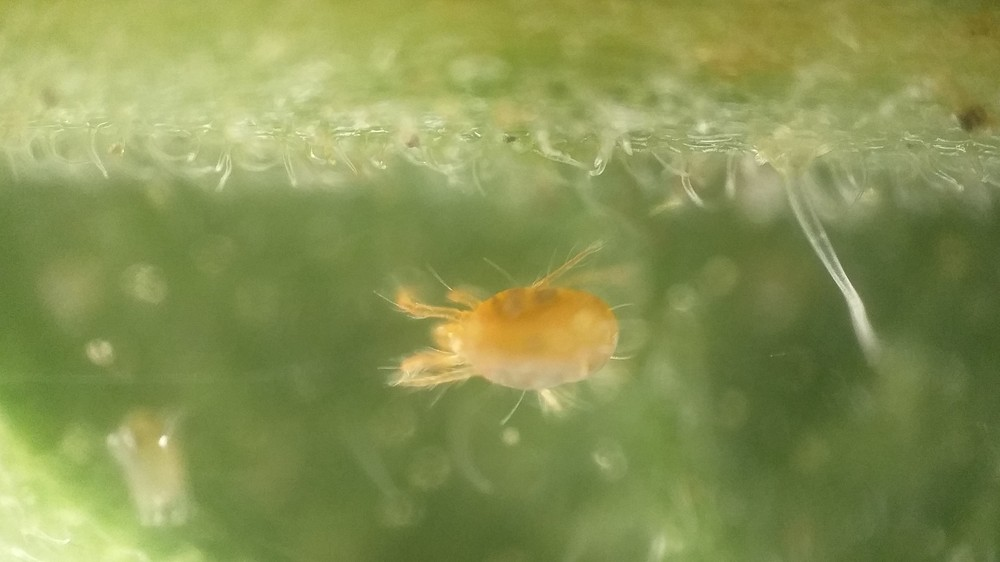Aracnido Rojo: (372, 236, 668, 429)
